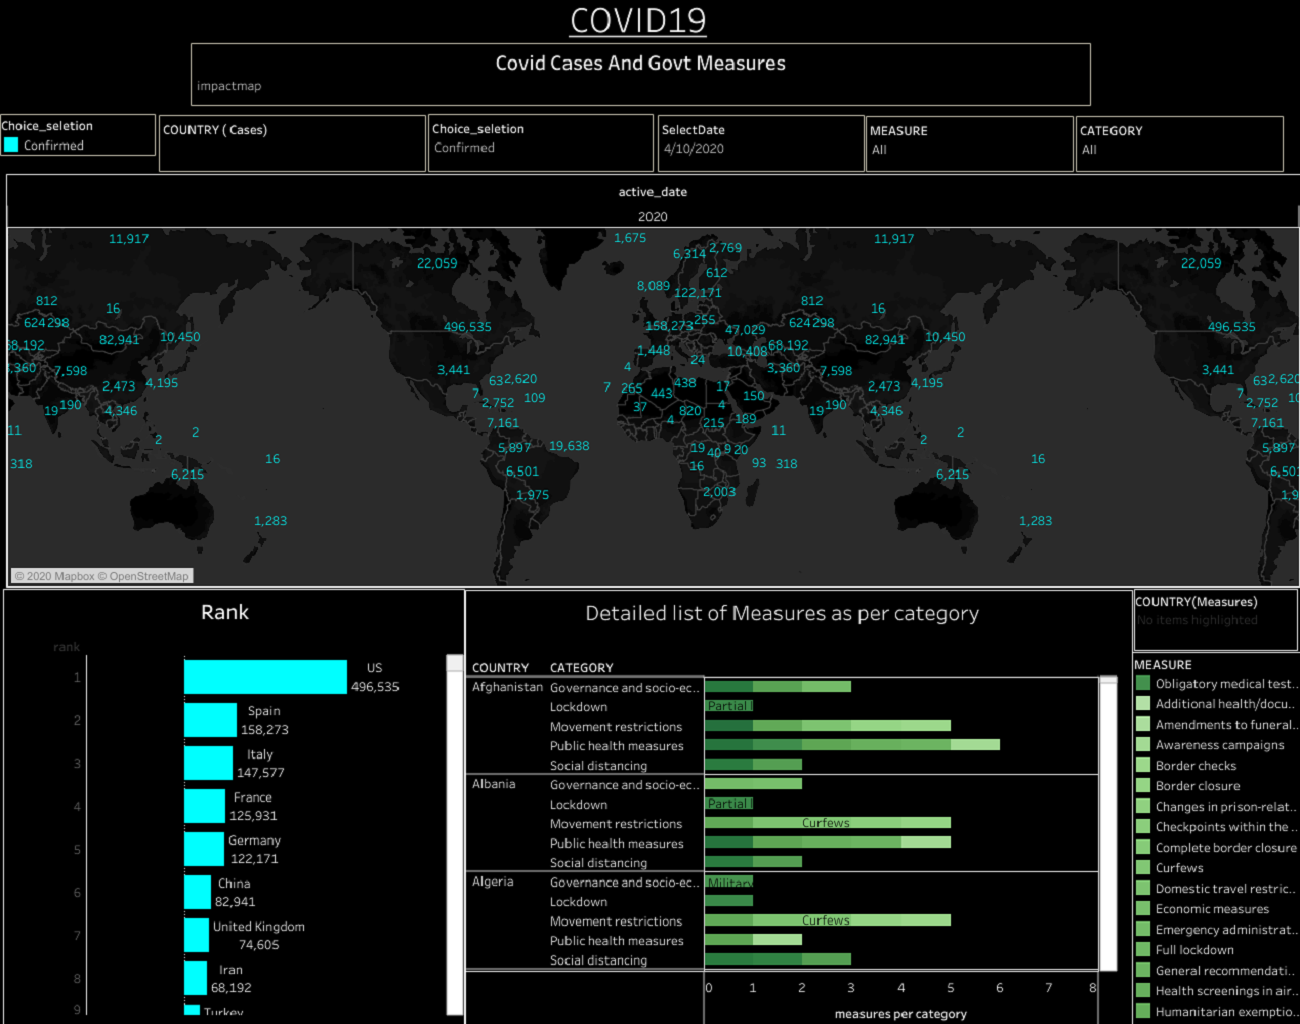

What the dashboard file says about the page in this screenshot:
{"tool":"tableau","page":{"name":"MainDashboard","canvas":[1270,1000],"ordinal":0},"visuals":[{"type":"parameter","param":"[Parameters].[Parameter 3]","box":[186,42,879,61]},{"type":"parameter","param":"[Parameters].[Parameter 2]","box":[417.8,110,219.7,61.2]},{"type":"parameter","param":"[Parameters].[Parameter 1]","box":[642,111,194,50]},{"type":"highlighter","title":"impactmap","param":"[federated.0l5t1w91v2tmrx1cekshw03nnuir].[none:country_region:nk]","box":[154.9,112.5,259.1,53.8]},{"type":"filter","title":"Sheet 5","param":"[federated.1p1w6ar119w5ft18zd7e90rsnycx].[none:MEASURE:nk]","box":[844.5,112.5,203.2,55]},{"type":"filter","title":"Sheet 5","param":"[federated.1p1w6ar119w5ft18zd7e90rsnycx].[none:CATEGORY:nk]","box":[1050.3,112.5,203.2,55]},{"type":"legend","title":"impactmap","param":"[Parameters].[Parameter 2]","box":[0,118.8,152.4,48.8]},{"type":"worksheet","title":"impactmap","mark":"Pie","cols":["Calculation_928304510336782338"],"box":[6,170,1264,404.4]},{"type":"worksheet","title":"measures map","mark":"Automatic","box":[3,171,1266,402]},{"type":"worksheet","title":"rank","mark":"Bar","box":[3,575,451,426]},{"type":"highlighter","title":"measures map","param":"[federated.1p1w6ar119w5ft18zd7e90rsnycx].[none:COUNTRY:nk]","box":[1107,575,160,60]}]}

Visuals, with their boxes in screenshot pixels (x1, y1, x2, y2), scaled from the page's 1270x1000 canvas onto the 1300x1024 screenshot:
parameter: (190,43,1090,105)
parameter: (428,113,653,175)
parameter: (657,114,856,165)
"impactmap" highlighter: (159,115,424,170)
"Sheet 5" filter: (864,115,1072,172)
"Sheet 5" filter: (1075,115,1283,172)
"impactmap" legend: (0,122,156,172)
"impactmap" worksheet (Pie marks): (6,174,1299,588)
"measures map" worksheet: (3,175,1299,587)
"rank" worksheet (Bar marks): (3,589,465,1023)
"measures map" highlighter: (1133,589,1297,650)
